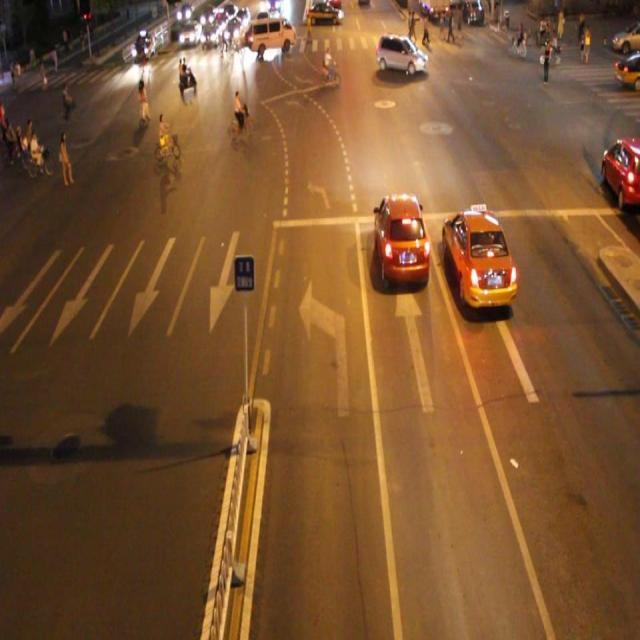car: (440, 204, 518, 308), (373, 192, 429, 288)
truck: (376, 32, 426, 77), (250, 16, 295, 53)
